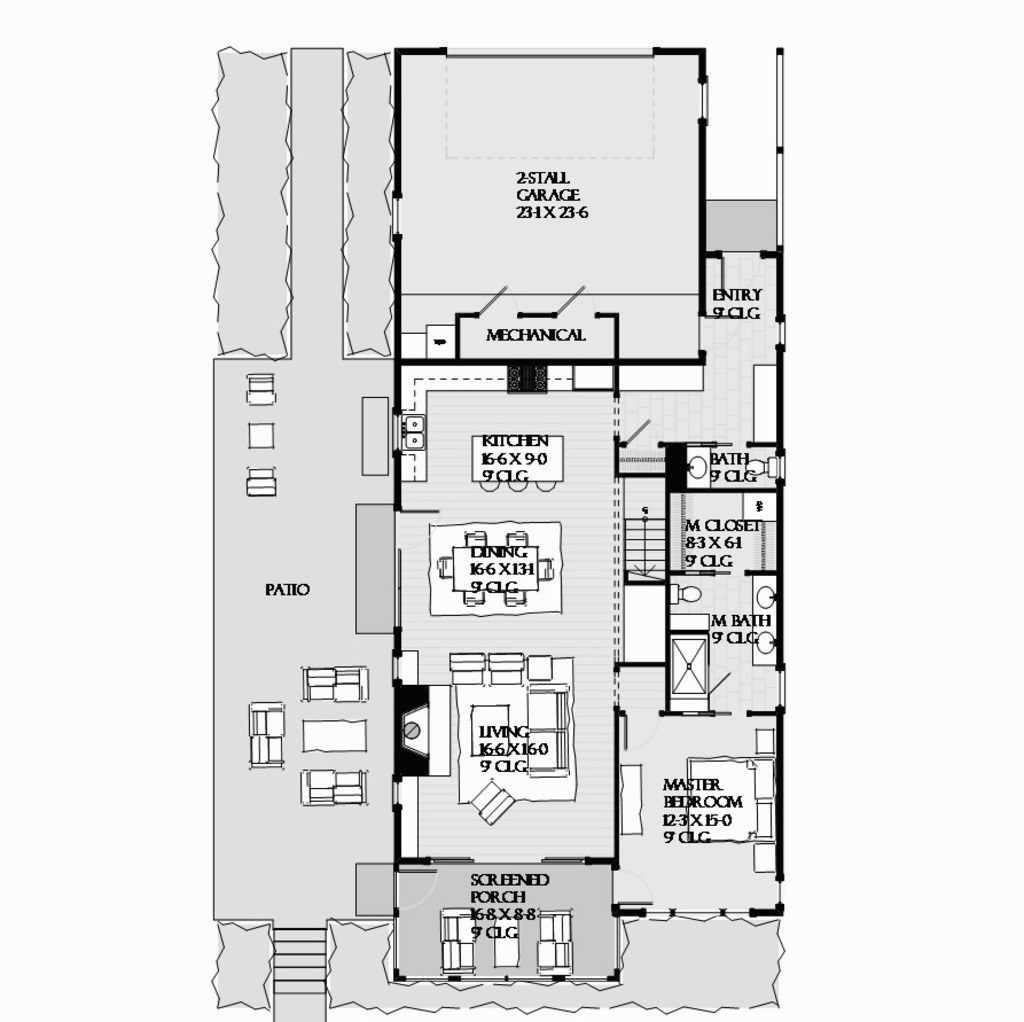Also on the main floor is the master suite complete with his and hers sinks, wal: (624, 437, 783, 924)
An open and spacious living, dining, and kitchen are great for entertaining.: (381, 363, 620, 862)
Direct access to the front or rear porch, grilling patio, and potential pool is: (205, 35, 398, 998), (395, 855, 789, 1011)
there is a garage on the backside: (395, 35, 784, 360)
there is a screened porch with sitting facility: (397, 861, 802, 1013)
